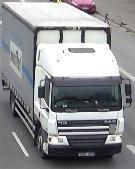Car: (63, 0, 96, 15)
Truck: (6, 3, 125, 162)
